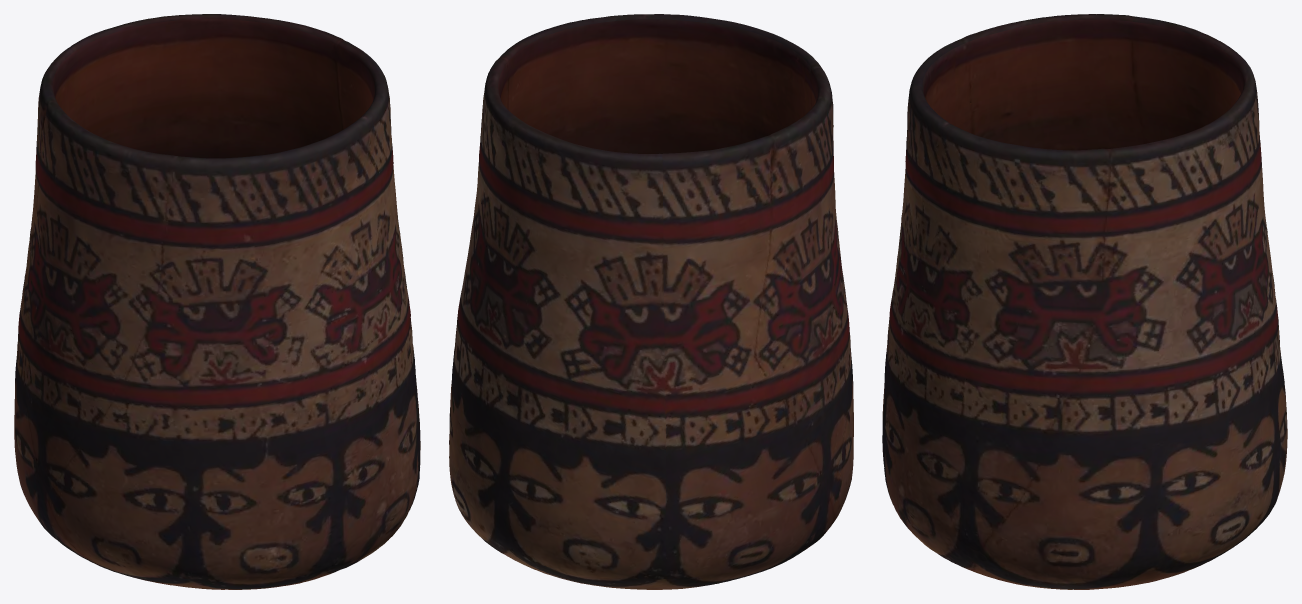
The model's file is preview.glb.
3 views of the same model, side by side, from view 1: azimuth 30°, elevation 25°; view 2: azimuth 150°, elevation 25°; view 3: azimuth 270°, elevation 25° (orthographic).
Parts seen in each view (by area): view 1: Object_2; view 2: Object_2; view 3: Object_2.
Boxes of the visible parts, x1,y1,x2,y2 form: Object_2: [14, 14, 420, 589]; Object_2: [449, 14, 853, 589]; Object_2: [882, 14, 1287, 589].
Bounding box in the file's own units: 63.04 × 81.83 × 64.06.
1 material, 1 textured.
